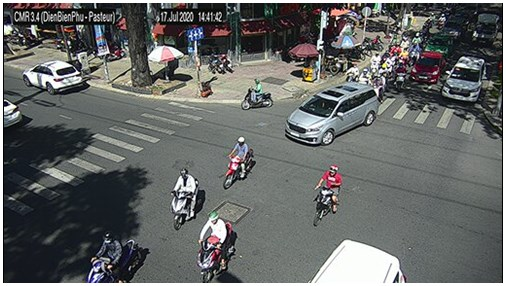xe_hoi: (285, 83, 379, 145), (308, 239, 406, 284), (22, 60, 84, 94), (442, 55, 484, 102), (411, 51, 445, 83), (443, 15, 467, 41), (4, 97, 22, 128), (425, 34, 453, 53)
xe_may: (198, 210, 237, 284), (87, 231, 142, 283), (314, 165, 342, 227), (170, 168, 198, 230), (223, 135, 254, 190), (239, 78, 273, 109), (395, 63, 406, 91), (379, 65, 390, 91), (408, 41, 419, 65), (371, 50, 380, 77), (397, 48, 410, 66), (346, 64, 359, 81), (361, 69, 372, 86), (438, 14, 445, 29), (429, 13, 436, 25)
xe_tai: (472, 14, 499, 48)
